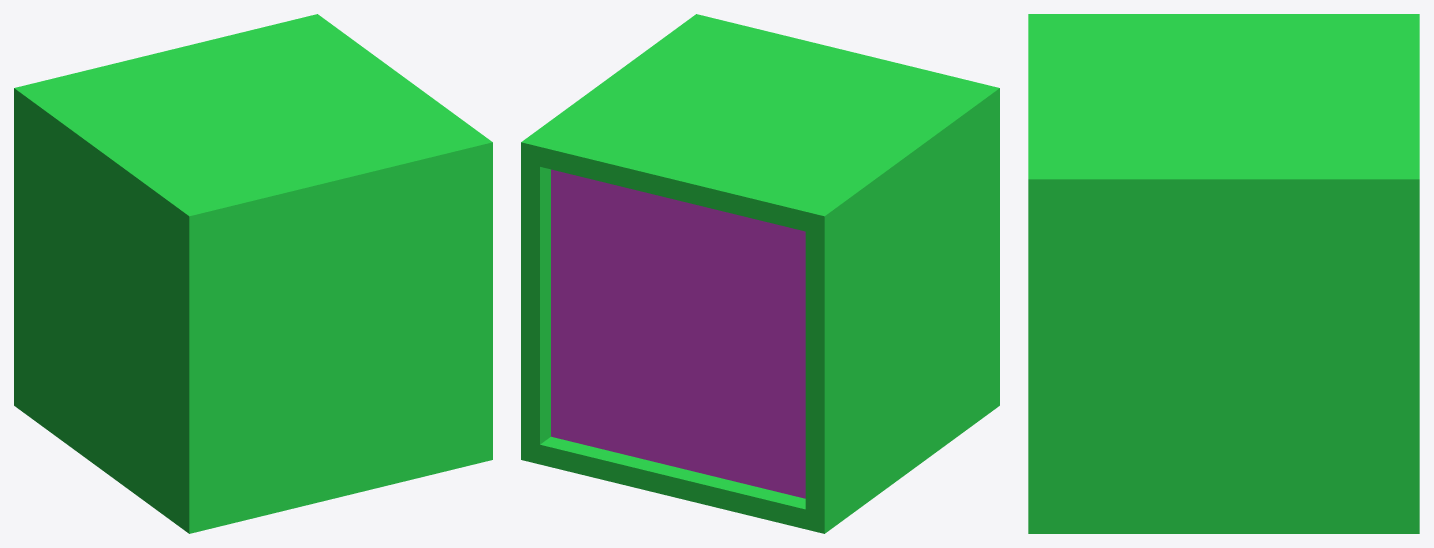
Rendered from Porthole.glb.
3 renders of one model, left to right at view 1: azimuth 30°, elevation 25°; view 2: azimuth 150°, elevation 25°; view 3: azimuth 270°, elevation 25°, orthographic. The views are drawn at different scales.
Parts seen in each view (by area): view 1: Hull; view 2: Hull, Window; view 3: Hull.
Part boxes in pixels (<box>): Hull: <box>14,14,492,533</box>; Hull: <box>521,14,999,533</box>; Window: <box>551,169,805,498</box>; Hull: <box>1028,14,1419,533</box>.
Size of the model in its own units: 4 by 4 by 4.
